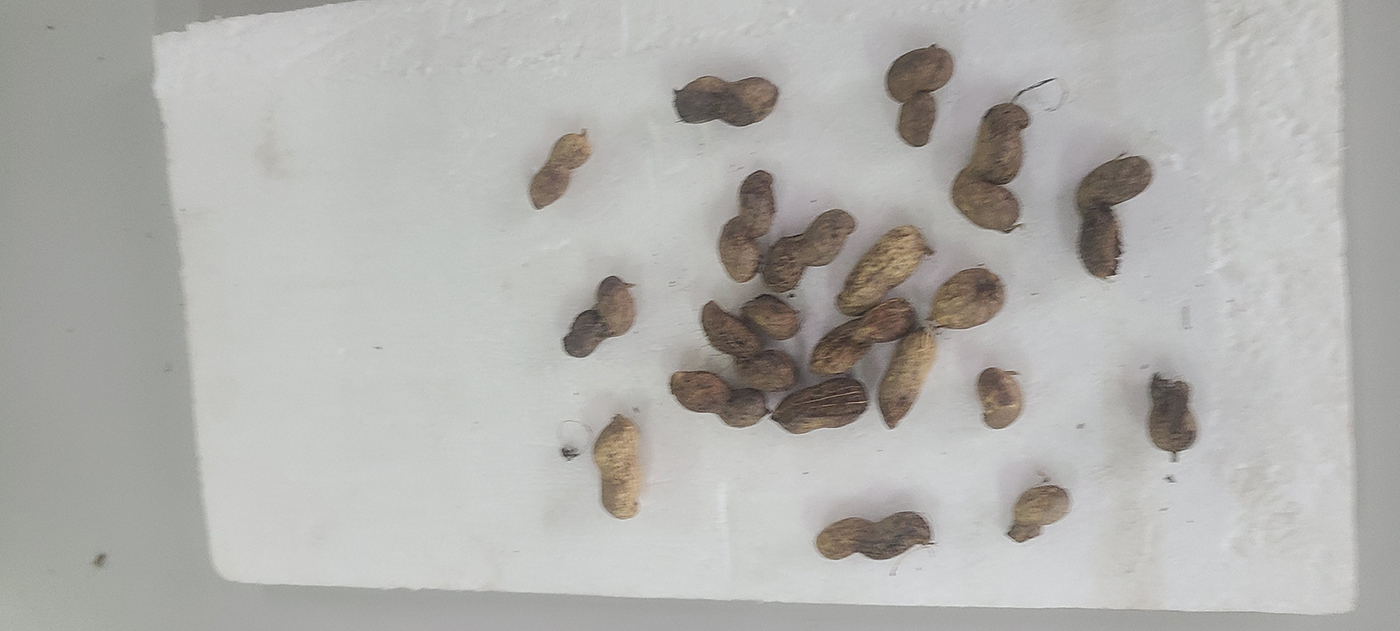l: (952, 102, 1029, 232), (1077, 153, 1152, 278), (701, 302, 797, 389), (836, 226, 927, 315), (762, 211, 856, 293), (812, 300, 915, 374), (718, 168, 775, 283), (816, 509, 932, 562), (564, 276, 634, 358), (672, 369, 768, 428), (878, 332, 936, 429), (774, 376, 869, 434), (675, 75, 780, 127), (593, 419, 641, 519), (529, 134, 590, 209), (933, 268, 1004, 330), (1147, 374, 1197, 452), (1008, 484, 1070, 544), (888, 47, 952, 101), (978, 368, 1024, 430), (742, 296, 800, 339), (899, 92, 936, 147)
